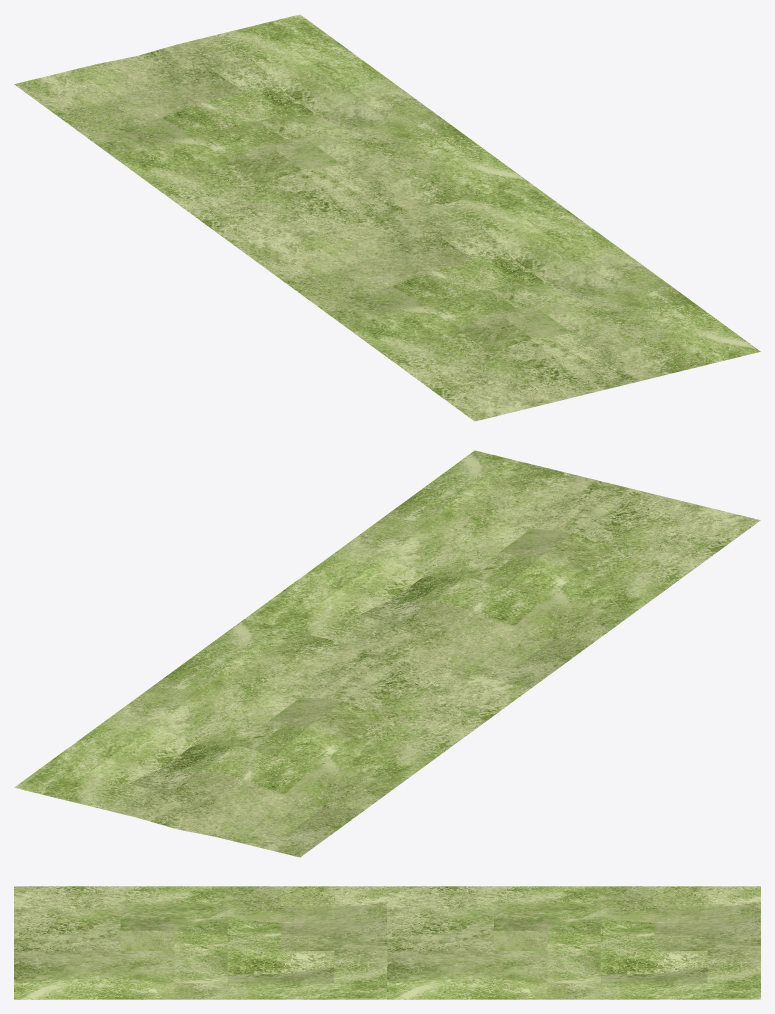
File: park ground.fbx
3 renders of one model, top to bottom at view 1: azimuth 30°, elevation 25°; view 2: azimuth 150°, elevation 25°; view 3: azimuth 270°, elevation 25°, orthographic. The views are drawn at different scales.
Visible parts, largest first — view 1: parkplane_1, parkplane; view 2: parkplane_1, parkplane; view 3: parkplane_1, parkplane.
Part boxes in pixels (x1,y1,x2,y2): parkplane_1: [14, 14, 530, 252]; parkplane: [245, 183, 760, 421]; parkplane_1: [14, 619, 530, 857]; parkplane: [245, 450, 760, 688]; parkplane_1: [387, 886, 760, 999]; parkplane: [14, 886, 387, 999].
Size of the model in its own units: 1050 by 50 by 2928.
Materials: 1 (1 with a texture image).
